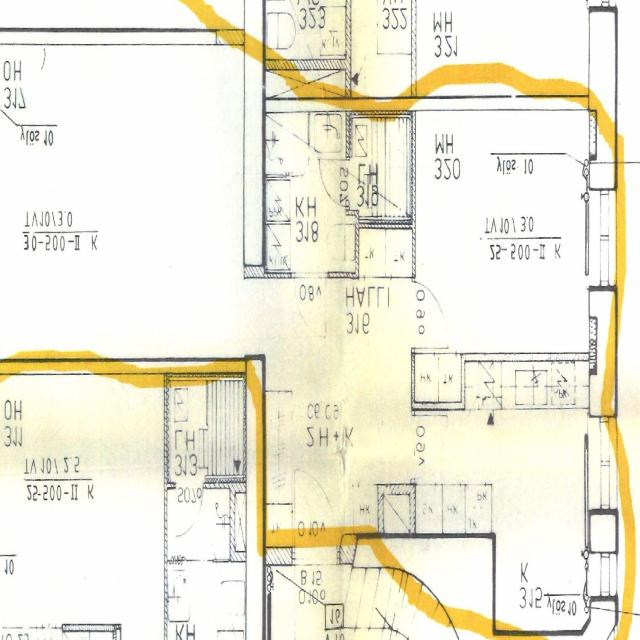door: (296, 546, 338, 640), (296, 470, 338, 563), (413, 281, 452, 348), (412, 415, 450, 479), (294, 272, 326, 335), (321, 160, 349, 206)
